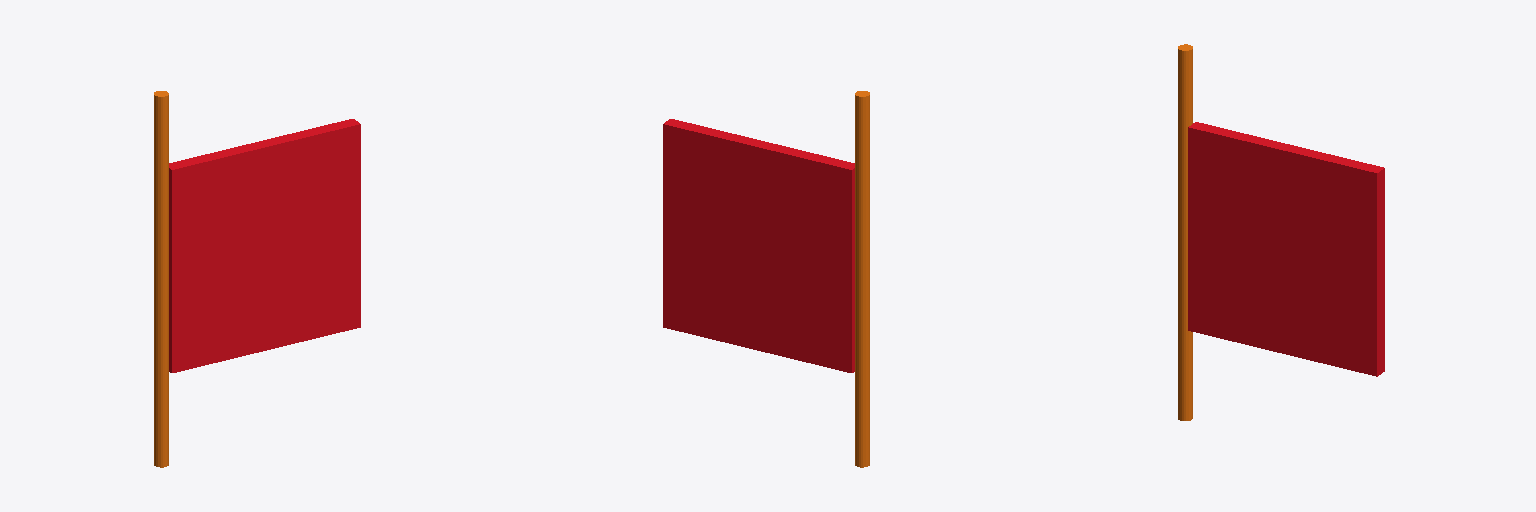
File: Plane about edge.obj
The picture shows the model from 3 angles: view 1: azimuth 30°, elevation 25°; view 2: azimuth 150°, elevation 25°; view 3: azimuth 330°, elevation 25°; orthographic projection.
Visible parts, largest first — view 1: obj_0; view 2: obj_0; view 3: obj_0.
Part boxes in pixels (x1,y1,x2,y2): obj_0: (154, 91, 360, 467); obj_0: (663, 91, 869, 467); obj_0: (1178, 44, 1384, 420).
Size of the model in its own units: 76 by 133 by 5.